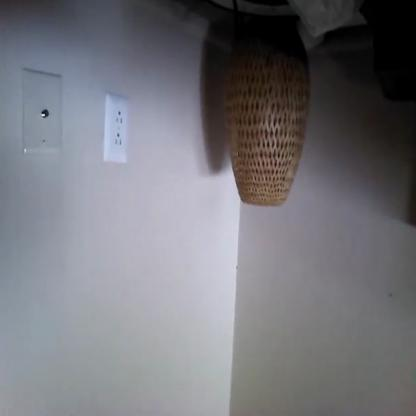OUTLET: (102, 95, 128, 163)
